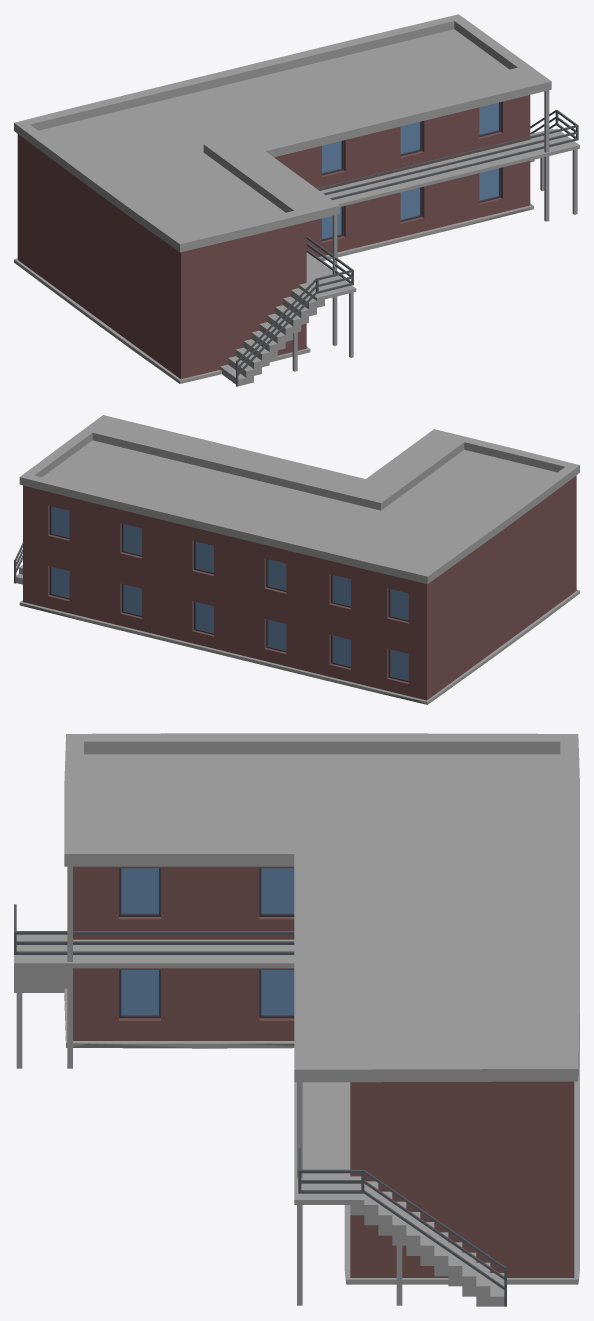
Rendered from cb_Building_3_A.glb.
3 renders of one model, top to bottom at view 1: azimuth 30°, elevation 25°; view 2: azimuth 150°, elevation 25°; view 3: azimuth 270°, elevation 25°, orthographic. The views are drawn at different scales.
Parts seen in each view (by area): view 1: Building 3 A; view 2: Building 3 A; view 3: Building 3 A.
Boxes of the visible parts, box(x1,y1,x2,y2) form: Building 3 A: box(14, 14, 579, 386); Building 3 A: box(14, 415, 579, 704); Building 3 A: box(14, 733, 579, 1306).
Bounding box in the file's own units: 30.2 × 8.5 × 20.2.
Materials: 1 (1 with a texture image).
